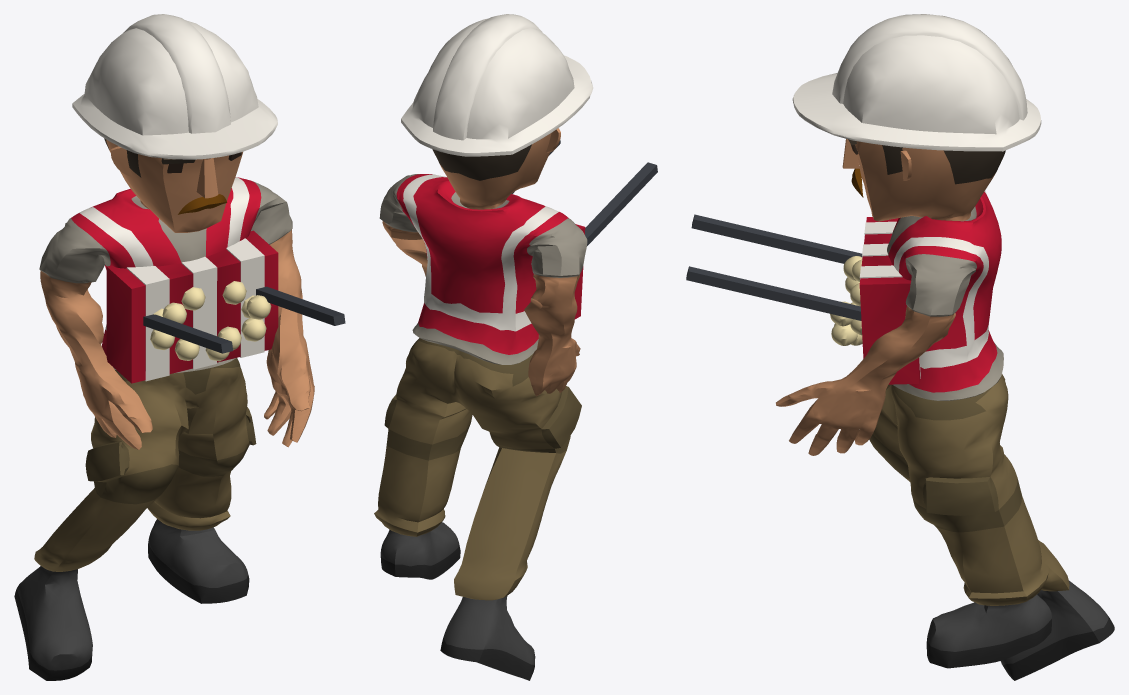
The model's file is av-vendedor-pipoca.glb.
The picture shows the model from 3 angles, left to right: view 1: azimuth 30°, elevation 25°; view 2: azimuth 150°, elevation 25°; view 3: azimuth 270°, elevation 25°; orthographic projection. The views are drawn at different scales.
Parts seen in each view (by area): view 1: Ad_bandeja_pipoca_0_0; view 2: Ad_bandeja_pipoca_0_0; view 3: Ad_bandeja_pipoca_0_0.
Part boxes in pixels (x1,y1,x2,y2): Ad_bandeja_pipoca_0_0: (14,14,345,680); Ad_bandeja_pipoca_0_0: (374,14,657,680); Ad_bandeja_pipoca_0_0: (686,14,1114,680).
Size of the model in its own units: 0.5572 by 1.52 by 0.8603.
Materials: 1 (1 with a texture image).
